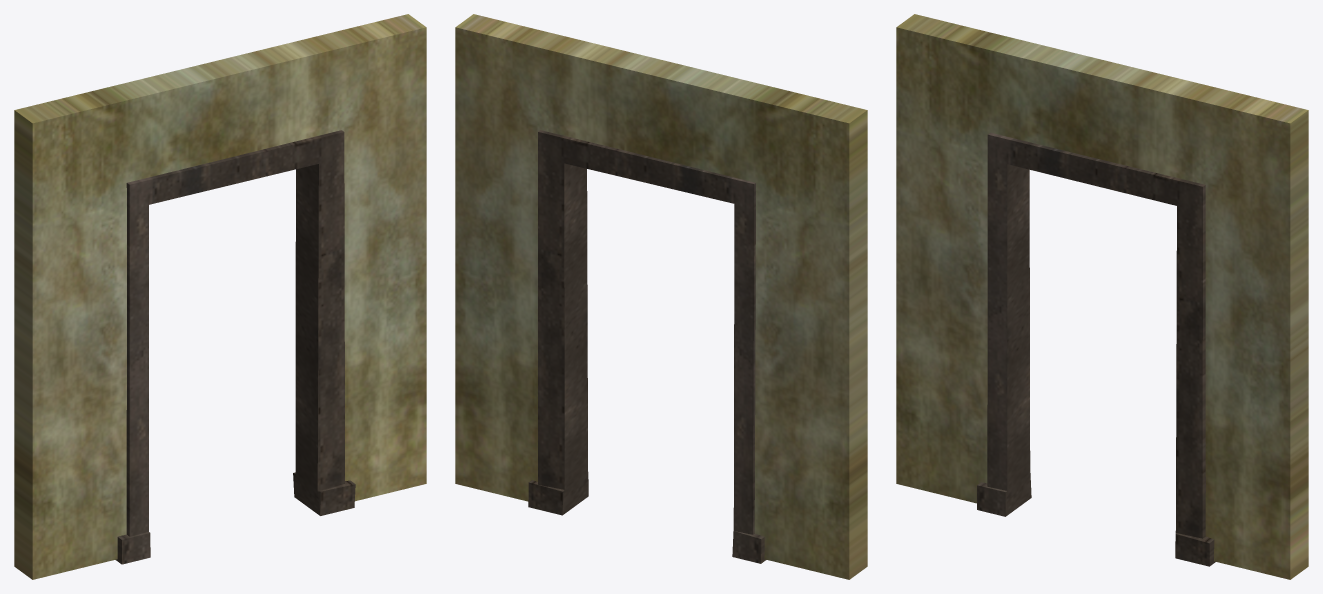
The model's file is wallWithGate.fbx.
The picture shows the model from 3 angles, left to right: view 1: azimuth 30°, elevation 25°; view 2: azimuth 150°, elevation 25°; view 3: azimuth 330°, elevation 25°; orthographic projection.
Visible parts, largest first — view 1: WallWithGate; view 2: WallWithGate; view 3: WallWithGate.
Part boxes in pixels (x1,y1,x2,y2): WallWithGate: (14, 14, 426, 579); WallWithGate: (455, 14, 867, 579); WallWithGate: (896, 14, 1308, 579).
Size of the model in its own units: 250 by 278 by 29.55.
